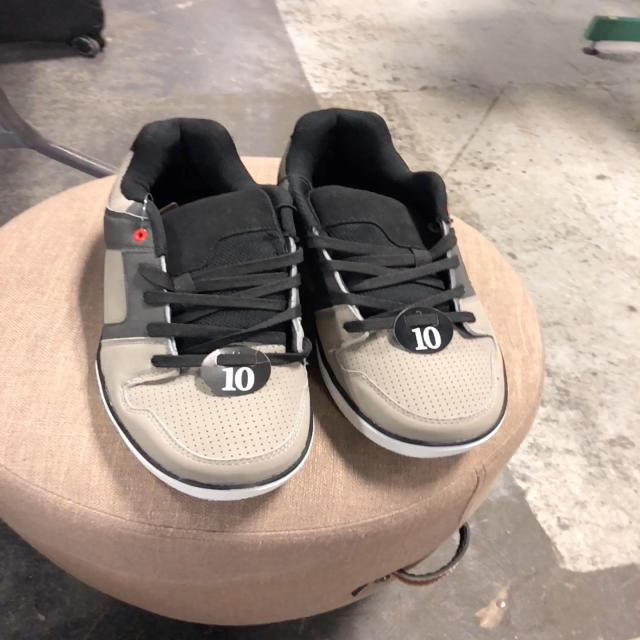shoe: (98, 119, 312, 492), (281, 108, 508, 454)
